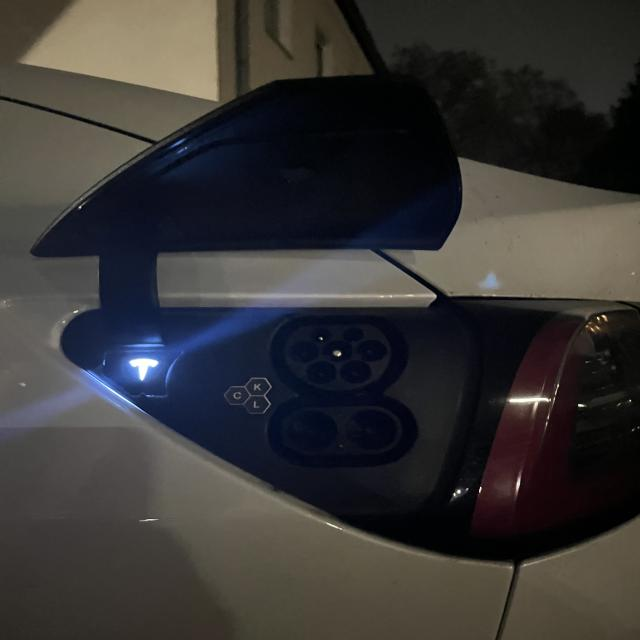inlet: (284, 324, 391, 390)
inlet-above-left: (306, 327, 332, 343)
inlet-above-right: (341, 327, 363, 341)
inlet-below-left: (306, 361, 336, 384)
inlet-below-right: (340, 360, 371, 383)
inlet-circle: (322, 340, 352, 361)
inlet-circle-left: (289, 341, 318, 363)
inlet-circle-right: (356, 340, 386, 361)
inlet-minus: (345, 409, 397, 450)
inlet-plus: (284, 411, 338, 451)
